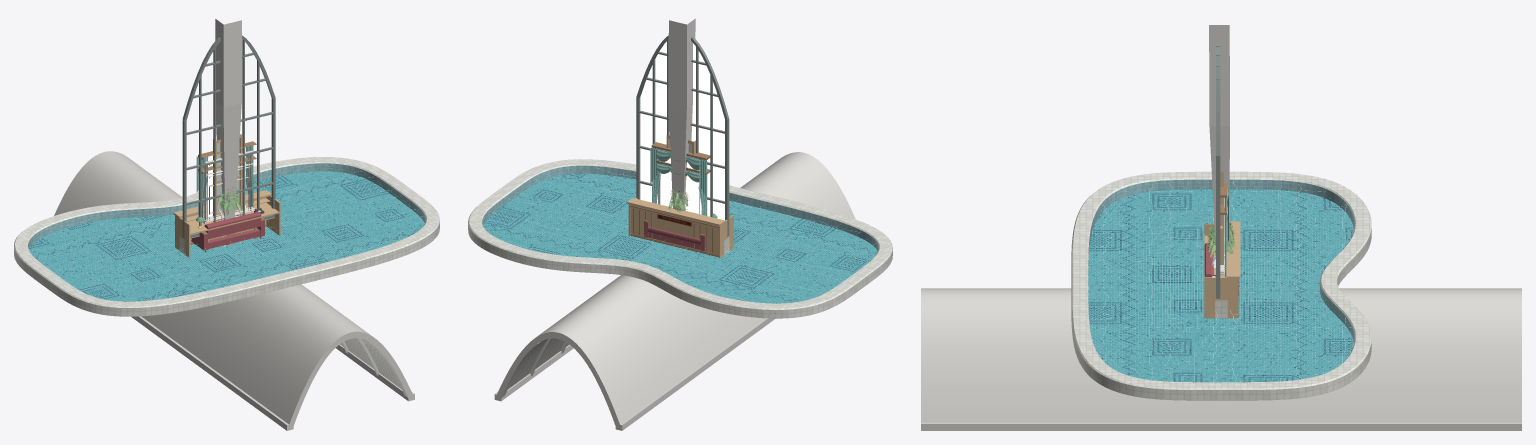
The model's file is sanatorium_props.glb.
3 views of the same model, side by side, from view 1: azimuth 30°, elevation 25°; view 2: azimuth 150°, elevation 25°; view 3: azimuth 270°, elevation 25° (orthographic). The views are drawn at different scales.
Visible parts, largest first — view 1: p_san_pool, p_san_vault, p_san_arch_window, p_san_vault_leg, p_san_reception, p_san_sofa, p_san_window_curtain, p_san_window_low, p_san_glass_screen; view 2: p_san_pool, p_san_vault, p_san_arch_window, p_san_vault_leg, p_san_reception, p_san_window_low, p_san_window_curtain, p_san_sofa; view 3: p_san_pool, p_san_vault, p_san_vault_leg, p_san_reception, p_san_arch_window.
Boxes of the visible parts, x1,y1,x2,y2 form: p_san_pool: [14, 157, 439, 316]; p_san_vault: [54, 151, 414, 430]; p_san_arch_window: [179, 35, 275, 254]; p_san_vault_leg: [215, 19, 241, 219]; p_san_reception: [173, 190, 280, 257]; p_san_sofa: [191, 211, 264, 252]; p_san_window_curtain: [196, 141, 256, 222]; p_san_window_low: [196, 156, 256, 223]; p_san_glass_screen: [213, 134, 242, 221]; p_san_pool: [468, 159, 892, 318]; p_san_vault: [494, 152, 855, 430]; p_san_arch_window: [636, 35, 729, 254]; p_san_vault_leg: [668, 18, 695, 211]; p_san_reception: [627, 198, 733, 258]; p_san_window_low: [650, 160, 710, 214]; p_san_window_curtain: [650, 142, 710, 215]; p_san_sofa: [643, 220, 704, 251]; p_san_pool: [1071, 171, 1371, 400]; p_san_vault: [921, 288, 1521, 430]; p_san_vault_leg: [1209, 25, 1229, 264]; p_san_reception: [1204, 221, 1240, 318]; p_san_arch_window: [1215, 44, 1227, 318].
Bounding box in the file's own units: 12 × 9.6 × 14.
Materials: 41 (10 with a texture image).
